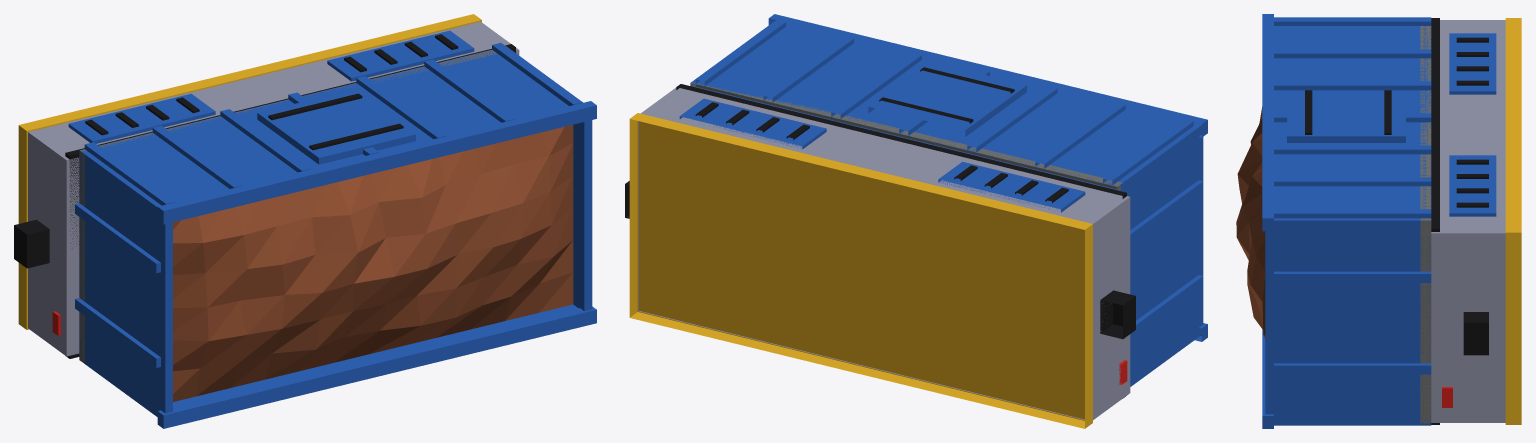
The model's file is loaded.glb.
3 views of the same model, side by side, from view 1: azimuth 30°, elevation 25°; view 2: azimuth 150°, elevation 25°; view 3: azimuth 270°, elevation 25° (orthographic). The views are drawn at different scales.
Parts seen in each view (by area): view 1: loaded_load, loaded_body, loaded_base, loaded_stripe, loaded_side1_-0.75_2.35, loaded_pod10, loaded_pod11, loaded_coupler-1, loaded_base_lip, loaded_side1_-0.70_2.55, loaded_side1_-0.70_3.65; view 2: loaded_stripe, loaded_body, loaded_base, loaded_side1_-0.75_2.35, loaded_pod10, loaded_pod11, loaded_base_lip, loaded_coupler-1; view 3: loaded_body, loaded_base, loaded_stripe, loaded_side1_-0.75_2.35, loaded_load, loaded_pod10, loaded_pod11, loaded_base_lip, loaded_coupler1, loaded_side1_-0.70_2.55, loaded_side1_-0.70_3.65.
Boxes of the visible parts, box(x1,y1,x2,y2) form: loaded_load: box(173, 125, 573, 401); loaded_body: box(75, 43, 596, 428); loaded_base: box(28, 21, 519, 356); loaded_stripe: box(18, 14, 481, 329); loaded_side1_-0.75_2.35: box(257, 89, 415, 164); loaded_pod10: box(68, 93, 215, 143); loaded_pod11: box(327, 30, 474, 81); loaded_coupler-1: box(14, 219, 49, 268); loaded_base_lip: box(65, 44, 515, 358); loaded_side1_-0.70_2.55: box(268, 93, 362, 120); loaded_side1_-0.70_3.65: box(309, 123, 403, 150); loaded_stripe: box(629, 113, 1092, 428); loaded_body: box(690, 14, 1207, 386); loaded_base: box(638, 87, 1130, 420); loaded_side1_-0.75_2.35: box(868, 61, 1026, 136); loaded_pod10: box(938, 161, 1085, 212); loaded_pod11: box(679, 98, 826, 149); loaded_base_lip: box(676, 84, 1126, 398); loaded_coupler-1: box(1100, 290, 1135, 339); loaded_body: box(1262, 14, 1431, 428); loaded_base: box(1431, 20, 1505, 422); loaded_stripe: box(1505, 18, 1521, 424); loaded_side1_-0.75_2.35: box(1287, 90, 1405, 142); loaded_load: box(1236, 107, 1265, 338); loaded_pod10: box(1449, 33, 1496, 94); loaded_pod11: box(1449, 155, 1496, 216); loaded_base_lip: box(1431, 18, 1439, 424); loaded_coupler1: box(1463, 312, 1488, 355); loaded_side1_-0.70_2.55: box(1384, 90, 1391, 134); loaded_side1_-0.70_3.65: box(1305, 90, 1312, 134).
Bounding box in the file's own units: 7.7 × 3.36 × 3.95.
